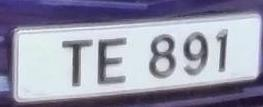1: (209, 24, 237, 78)
8: (145, 28, 181, 86)
9: (178, 27, 212, 80)
E: (90, 32, 134, 93)
T: (55, 33, 99, 94)
